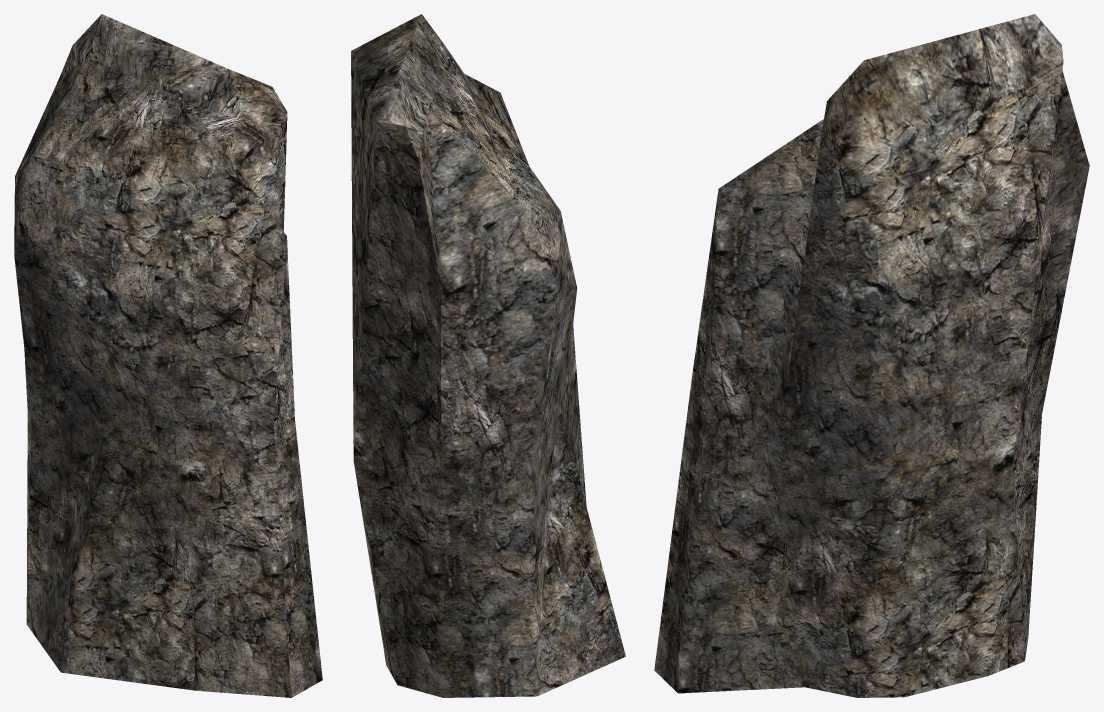
The model's file is pir_m_prp_cav_rock_tall.fbx.
3 views of the same model, side by side, from view 1: azimuth 30°, elevation 25°; view 2: azimuth 150°, elevation 25°; view 3: azimuth 270°, elevation 25° (orthographic). The views are drawn at different scales.
Parts seen in each view (by area): view 1: lod_high; view 2: lod_high; view 3: lod_high.
Part boxes in pixels (bbox=[...]): lod_high: bbox=[14, 14, 322, 697]; lod_high: bbox=[351, 14, 625, 697]; lod_high: bbox=[654, 14, 1089, 697].
Size of the model in its own units: 1552 by 3623 by 2219.
1 material, 1 textured.
